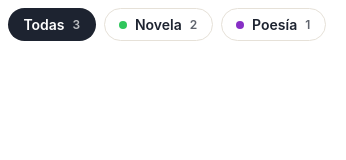
Test: CategoryFilter › filters the books by the selected category
Click the button "Poesía 1".
click(273, 25)  # box x1=221 y1=8 x2=326 y2=41
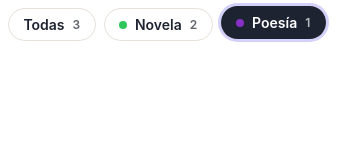
Now the button "Poesía 1" is pressed, box x1=221 y1=6 x2=326 y2=39
